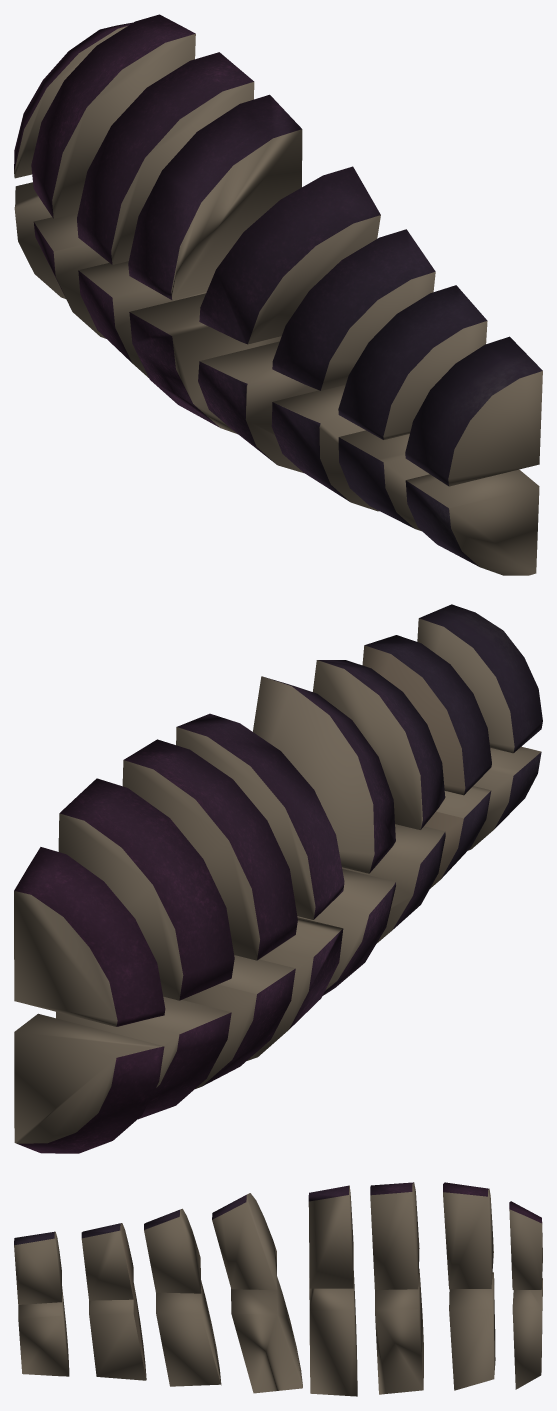
The model's file is EggplantCut06.fbx.
3 renders of one model, top to bottom at view 1: azimuth 30°, elevation 25°; view 2: azimuth 150°, elevation 25°; view 3: azimuth 270°, elevation 25°, orthographic. The views are drawn at different scales.
Parts seen in each view (by area): view 1: Eggplant.006, Eggplant.012, Eggplant.001, Eggplant.004, Eggplant.003, Eggplant.005, Eggplant, Eggplant.015, Eggplant.011, Eggplant.002, Eggplant.013, Eggplant.014 (+4 smaller); view 2: Eggplant.003, Eggplant.007, Eggplant.001, Eggplant.008, Eggplant.012, Eggplant.006, Eggplant.005, Eggplant.004, Eggplant, Eggplant.009, Eggplant.010, Eggplant.002 (+4 smaller); view 3: Eggplant.002, Eggplant.011, Eggplant.013, Eggplant.001, Eggplant.010, Eggplant.003, Eggplant.012, Eggplant.006, Eggplant.009, Eggplant.014, Eggplant.005, Eggplant.015 (+4 smaller).
Part boxes in pixels (box(x1,y1,x2,y2)): Eggplant.006: box(128, 94, 302, 300); Eggplant.012: box(199, 166, 380, 344); Eggplant.001: box(77, 52, 254, 264); Eggplant.004: box(405, 336, 542, 486); Eggplant.003: box(31, 14, 195, 218); Eggplant.005: box(272, 229, 435, 390); Eggplant: box(338, 285, 487, 439); Eggplant.015: box(405, 469, 539, 575); Eggplant.011: box(129, 293, 281, 434); Eggplant.002: box(198, 341, 318, 472); Eggplant.013: box(271, 385, 379, 511); Eggplant.014: box(338, 430, 429, 531); Eggplant.003: box(58, 778, 234, 1000); Eggplant.007: box(14, 847, 165, 1026); Eggplant.001: box(122, 739, 297, 960); Eggplant.008: box(14, 1013, 164, 1153); Eggplant.012: box(253, 676, 395, 873); Eggplant.006: box(176, 713, 344, 919); Eggplant.005: box(313, 660, 445, 829); Eggplant.004: box(417, 604, 542, 753); Eggplant: box(362, 635, 491, 795); Eggplant.009: box(56, 996, 231, 1119); Eggplant.010: box(182, 955, 295, 1088); Eggplant.002: box(297, 869, 395, 995); Eggplant.002: box(231, 1276, 302, 1393); Eggplant.011: box(309, 1271, 357, 1396); Eggplant.013: box(156, 1280, 221, 1386); Eggplant.001: box(370, 1182, 419, 1289); Eggplant.010: box(375, 1268, 423, 1394); Eggplant.003: box(443, 1182, 493, 1289); Eggplant.012: box(212, 1193, 277, 1290); Eggplant.006: box(308, 1185, 353, 1288); Eggplant.009: box(449, 1272, 495, 1390); Eggplant.014: box(89, 1283, 146, 1380); Eggplant.005: box(144, 1208, 201, 1293); Eggplant.015: box(18, 1286, 69, 1376).
Size of the model in its own units: 600 by 1341 by 3131.
